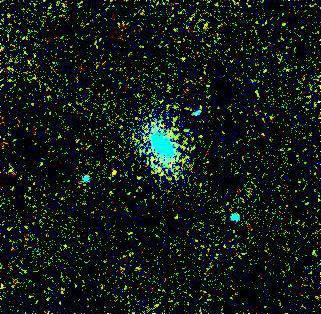star: (100, 160, 130, 190)
